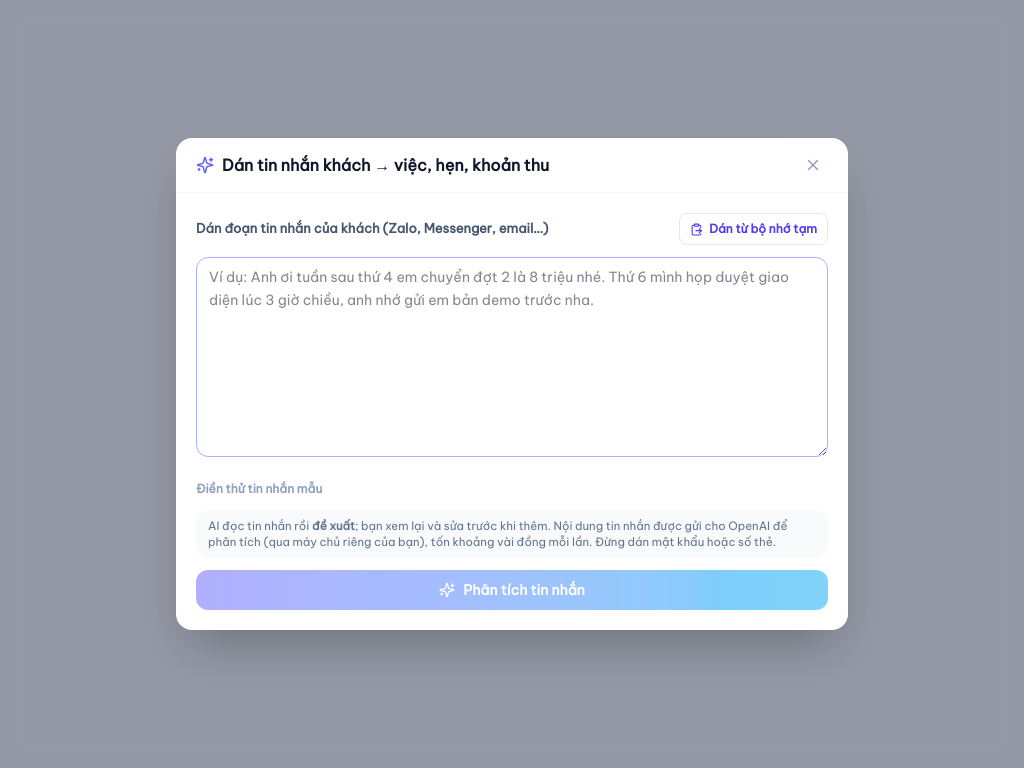
khung Dán tin nhắn khách › AI lỗi → hiện lỗi, giữ nguyên tin nhắn; AI không thấy gì → báo rõ
Replace the text in the text box with id "msg-text" with "Nội dung dán" at coordinates (512, 357), box [196,257,828,457]
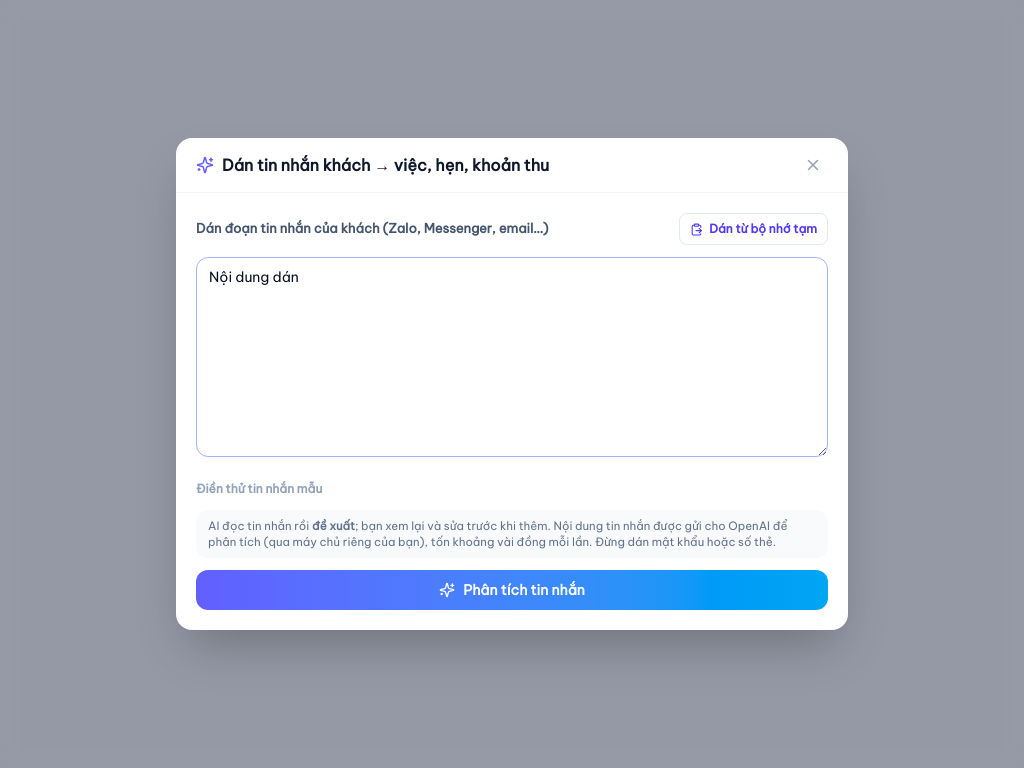
Click the button "Phân tích tin nhắn".
click(512, 590)  # box [196,570,828,610]
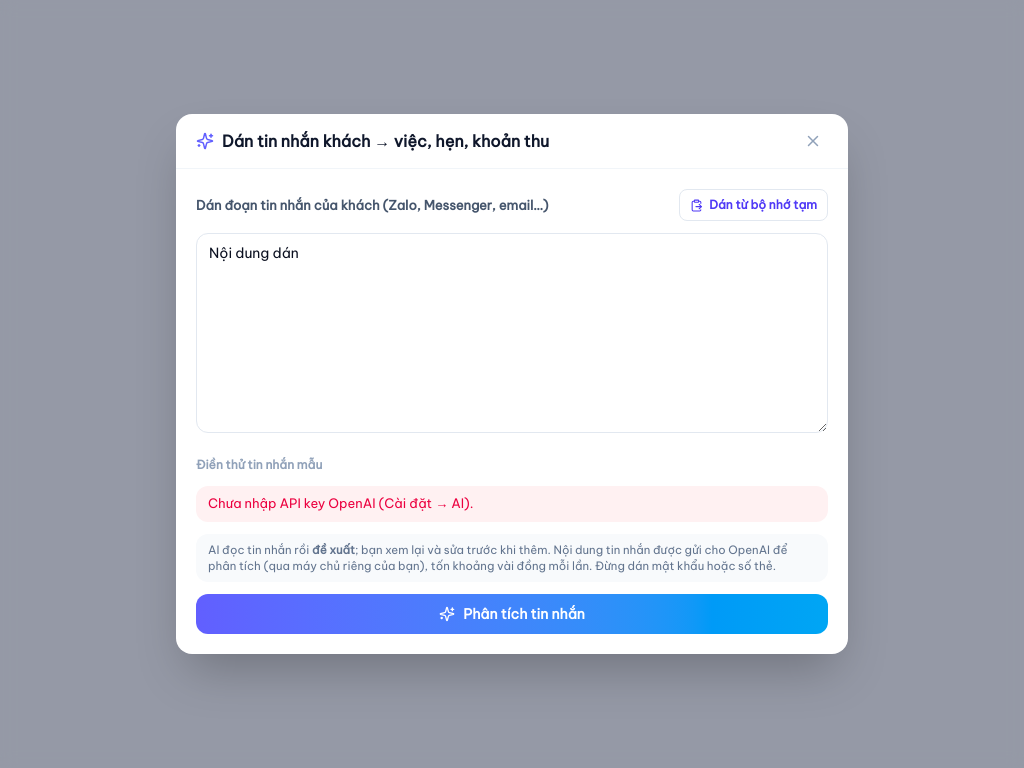
Check: the text "Chưa nhập API key OpenAI (Cài đặt → AI)." is shown, box [196,486,828,522]
Click the button "Phân tích tin nhắn".
click(512, 614)  # box [196,594,828,634]
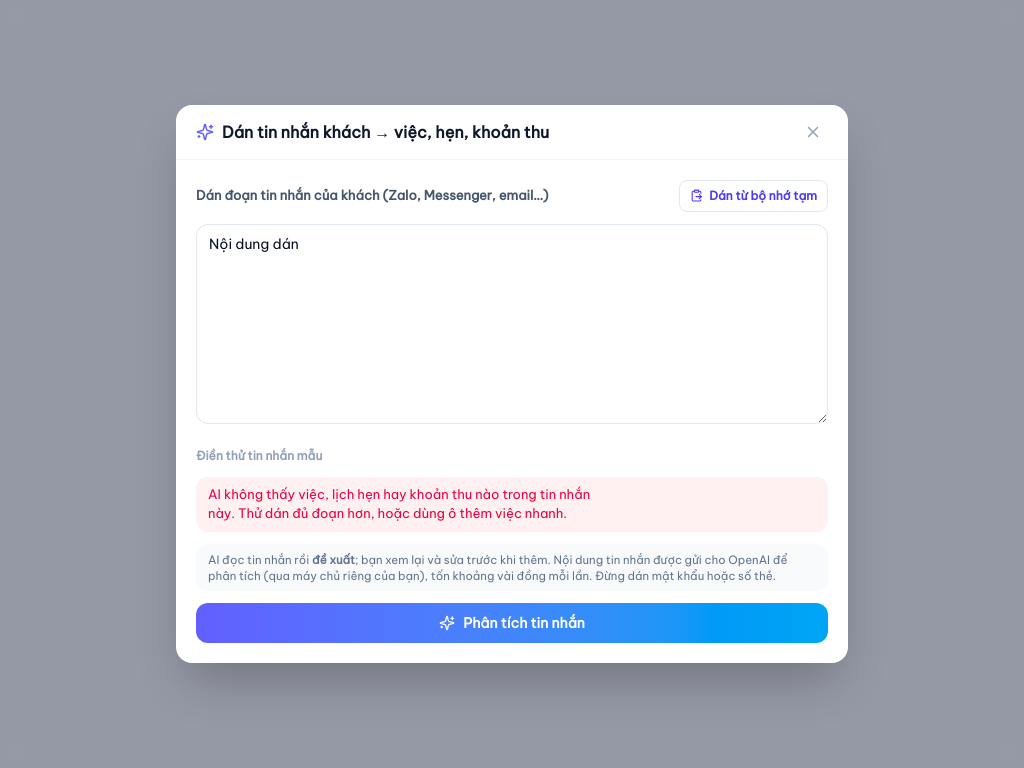
Check: the text "AI không thấy việc, lịch hẹn hay khoản thu nào" is shown, box [208,486,590,521]
